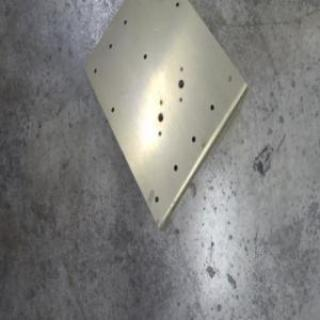MetalSheettrack_idkeyframe: (82, 0, 251, 233)
